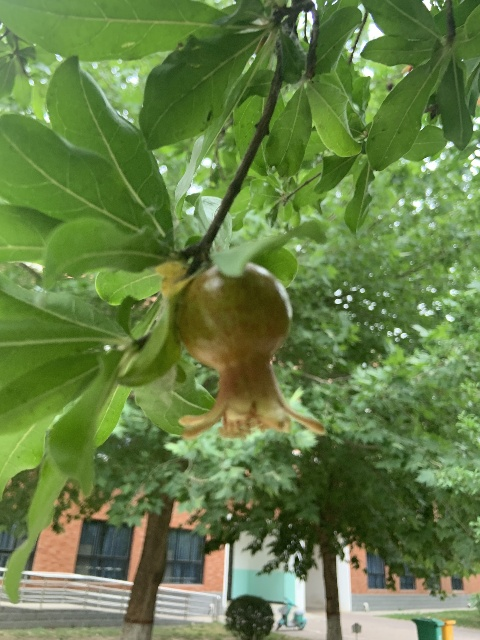early-fruit: (175, 260, 325, 440)
